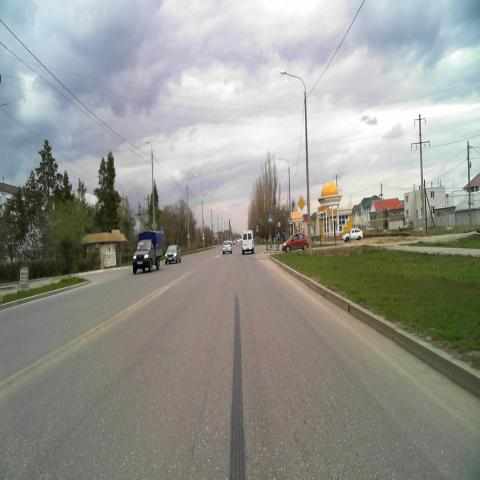2_1: (296, 195, 306, 212)
5_19_1: (268, 214, 273, 222)
